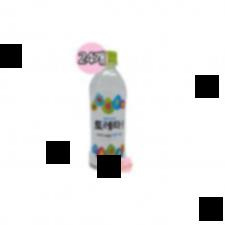toreta: (89, 74, 127, 158)
